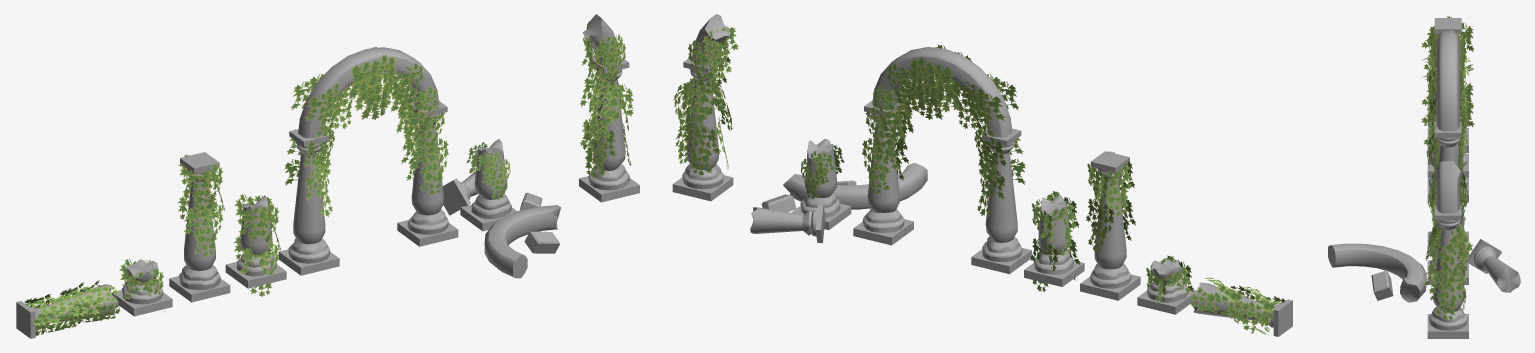
File: Rhett's Asset Pack 4 Overgrown.fbx
The picture shows the model from 3 angles, left to right: view 1: azimuth 30°, elevation 25°; view 2: azimuth 150°, elevation 25°; view 3: azimuth 270°, elevation 25°; orthographic projection. The views are drawn at different scales.
Parts seen in each view (by area): view 1: Arch, Overgrown_Arch_Foilage, Overgrown_Broken_Arch_Foilage, Arch_Rubble, Normal_Pillar, Arch_Rubble3, Overgrown_Broken_Pillar_Foilage1, Overgrown_Pillar_Foilage, Arch_Rubble1, Overgrown_Broken_Pillar_Foilage, Broken_Pillar_Taller, Broken_Pillar (+4 smaller); view 2: Arch, Overgrown_Arch_Foilage, Overgrown_Broken_Arch_Foilage, Normal_Pillar, Arch_Rubble, Broken_Pillar_Taller, Overgrown_Pillar_Foilage, Overgrown_Broken_Pillar_Foilage1, Arch_Rubble1, Arch_Rubble3, Overgrown_Broken_Pillar_Foilage, Arch_Rubble2 (+3 smaller); view 3: Arch_Rubble, Arch, Overgrown_Broken_Arch_Foilage, Arch_Rubble3, Overgrown_Arch_Foilage, Arch_Rubble2, Overgrown_Pillar_Foilage, Normal_Pillar, Overgrown_Broken_Pillar_Foilage, Arch_Rubble5, Arch_Rubble1, Overgrown_Pillar_Foilage2 (+2 smaller).
Part boxes in pixels (left/top/right/bottom): Arch: left=278, top=47, right=458, bottom=275; Overgrown_Arch_Foilage: left=284, top=46, right=448, bottom=216; Overgrown_Broken_Arch_Foilage: left=466, top=21, right=633, bottom=200; Arch_Rubble: left=579, top=14, right=639, bottom=202; Normal_Pillar: left=169, top=152, right=230, bottom=302; Arch_Rubble3: left=484, top=205, right=560, bottom=278; Overgrown_Broken_Pillar_Foilage1: left=24, top=280, right=120, bottom=335; Overgrown_Pillar_Foilage: left=177, top=154, right=224, bottom=257; Arch_Rubble1: left=460, top=139, right=517, bottom=231; Overgrown_Broken_Pillar_Foilage: left=233, top=194, right=280, bottom=296; Broken_Pillar_Taller: left=225, top=196, right=286, bottom=288; Broken_Pillar: left=111, top=259, right=172, bottom=316; Arch: left=853, top=47, right=1031, bottom=274; Overgrown_Arch_Foilage: left=862, top=44, right=1025, bottom=216; Overgrown_Broken_Arch_Foilage: left=673, top=26, right=844, bottom=199; Normal_Pillar: left=1080, top=151, right=1140, bottom=300; Arch_Rubble: left=672, top=14, right=733, bottom=201; Broken_Pillar_Taller: left=1024, top=195, right=1084, bottom=286; Overgrown_Pillar_Foilage: left=1086, top=151, right=1135, bottom=252; Overgrown_Broken_Pillar_Foilage1: left=1191, top=277, right=1285, bottom=334; Arch_Rubble1: left=791, top=139, right=851, bottom=229; Arch_Rubble3: left=783, top=162, right=927, bottom=209; Overgrown_Broken_Pillar_Foilage: left=1030, top=191, right=1080, bottom=291; Arch_Rubble2: left=750, top=204, right=825, bottom=243; Arch_Rubble: left=1427, top=161, right=1468, bottom=338; Arch: left=1427, top=30, right=1468, bottom=256; Overgrown_Broken_Arch_Foilage: left=1424, top=166, right=1472, bottom=320; Arch_Rubble3: left=1328, top=243, right=1426, bottom=302; Overgrown_Arch_Foilage: left=1427, top=31, right=1468, bottom=202; Arch_Rubble2: left=1466, top=239, right=1520, bottom=292; Overgrown_Pillar_Foilage: left=1421, top=16, right=1474, bottom=106; Normal_Pillar: left=1427, top=18, right=1468, bottom=152; Overgrown_Broken_Pillar_Foilage: left=1421, top=98, right=1474, bottom=165; Arch_Rubble5: left=1371, top=270, right=1393, bottom=300; Arch_Rubble1: left=1427, top=216, right=1468, bottom=284; Overgrown_Pillar_Foilage2: left=1421, top=80, right=1474, bottom=125.
Bounding box in the file's own units: 57.41 × 19.27 × 16.94.
2 materials, 1 textured.
